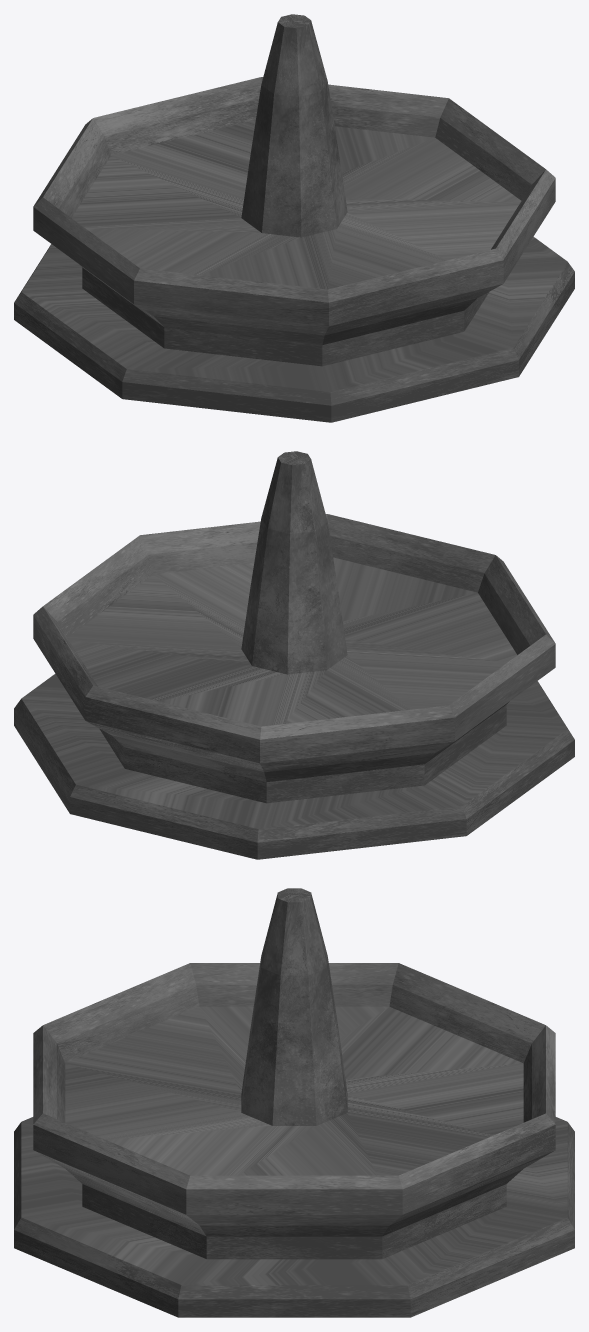
File: Fountaint.FBX
3 views of the same model, one above another, from view 1: azimuth 30°, elevation 25°; view 2: azimuth 150°, elevation 25°; view 3: azimuth 270°, elevation 25° (orthographic). The views are drawn at different scales.
Visible parts, largest first — view 1: Fountain; view 2: Fountain; view 3: Fountain.
Boxes of the visible parts, bbox=[...] form: Fountain: bbox=[14, 14, 574, 422]; Fountain: bbox=[14, 451, 574, 859]; Fountain: bbox=[14, 888, 574, 1317].
Bounding box in the file's own units: 218 × 130 × 218.
Materials: 1 (1 with a texture image).
